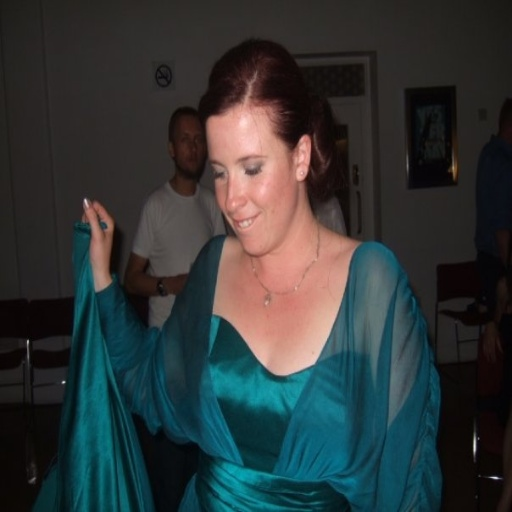hand: (78, 203, 105, 297), (174, 272, 189, 297)
